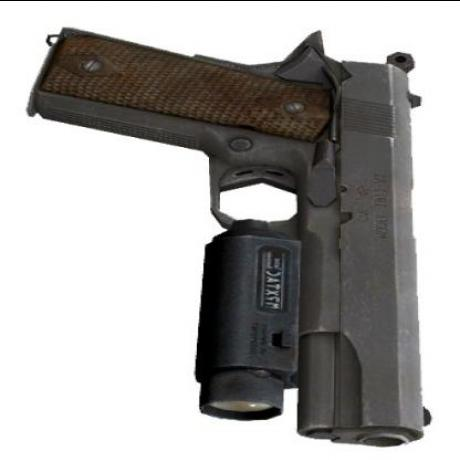weapon: (20, 17, 438, 448)
